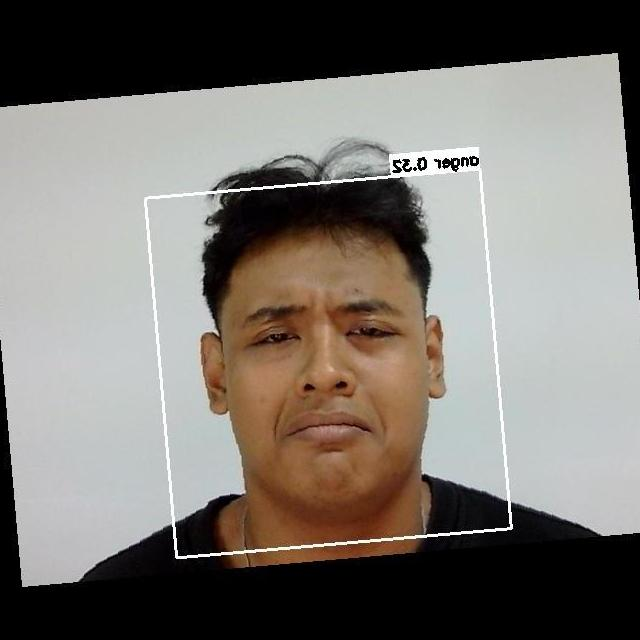Sad: (205, 266, 452, 475)
